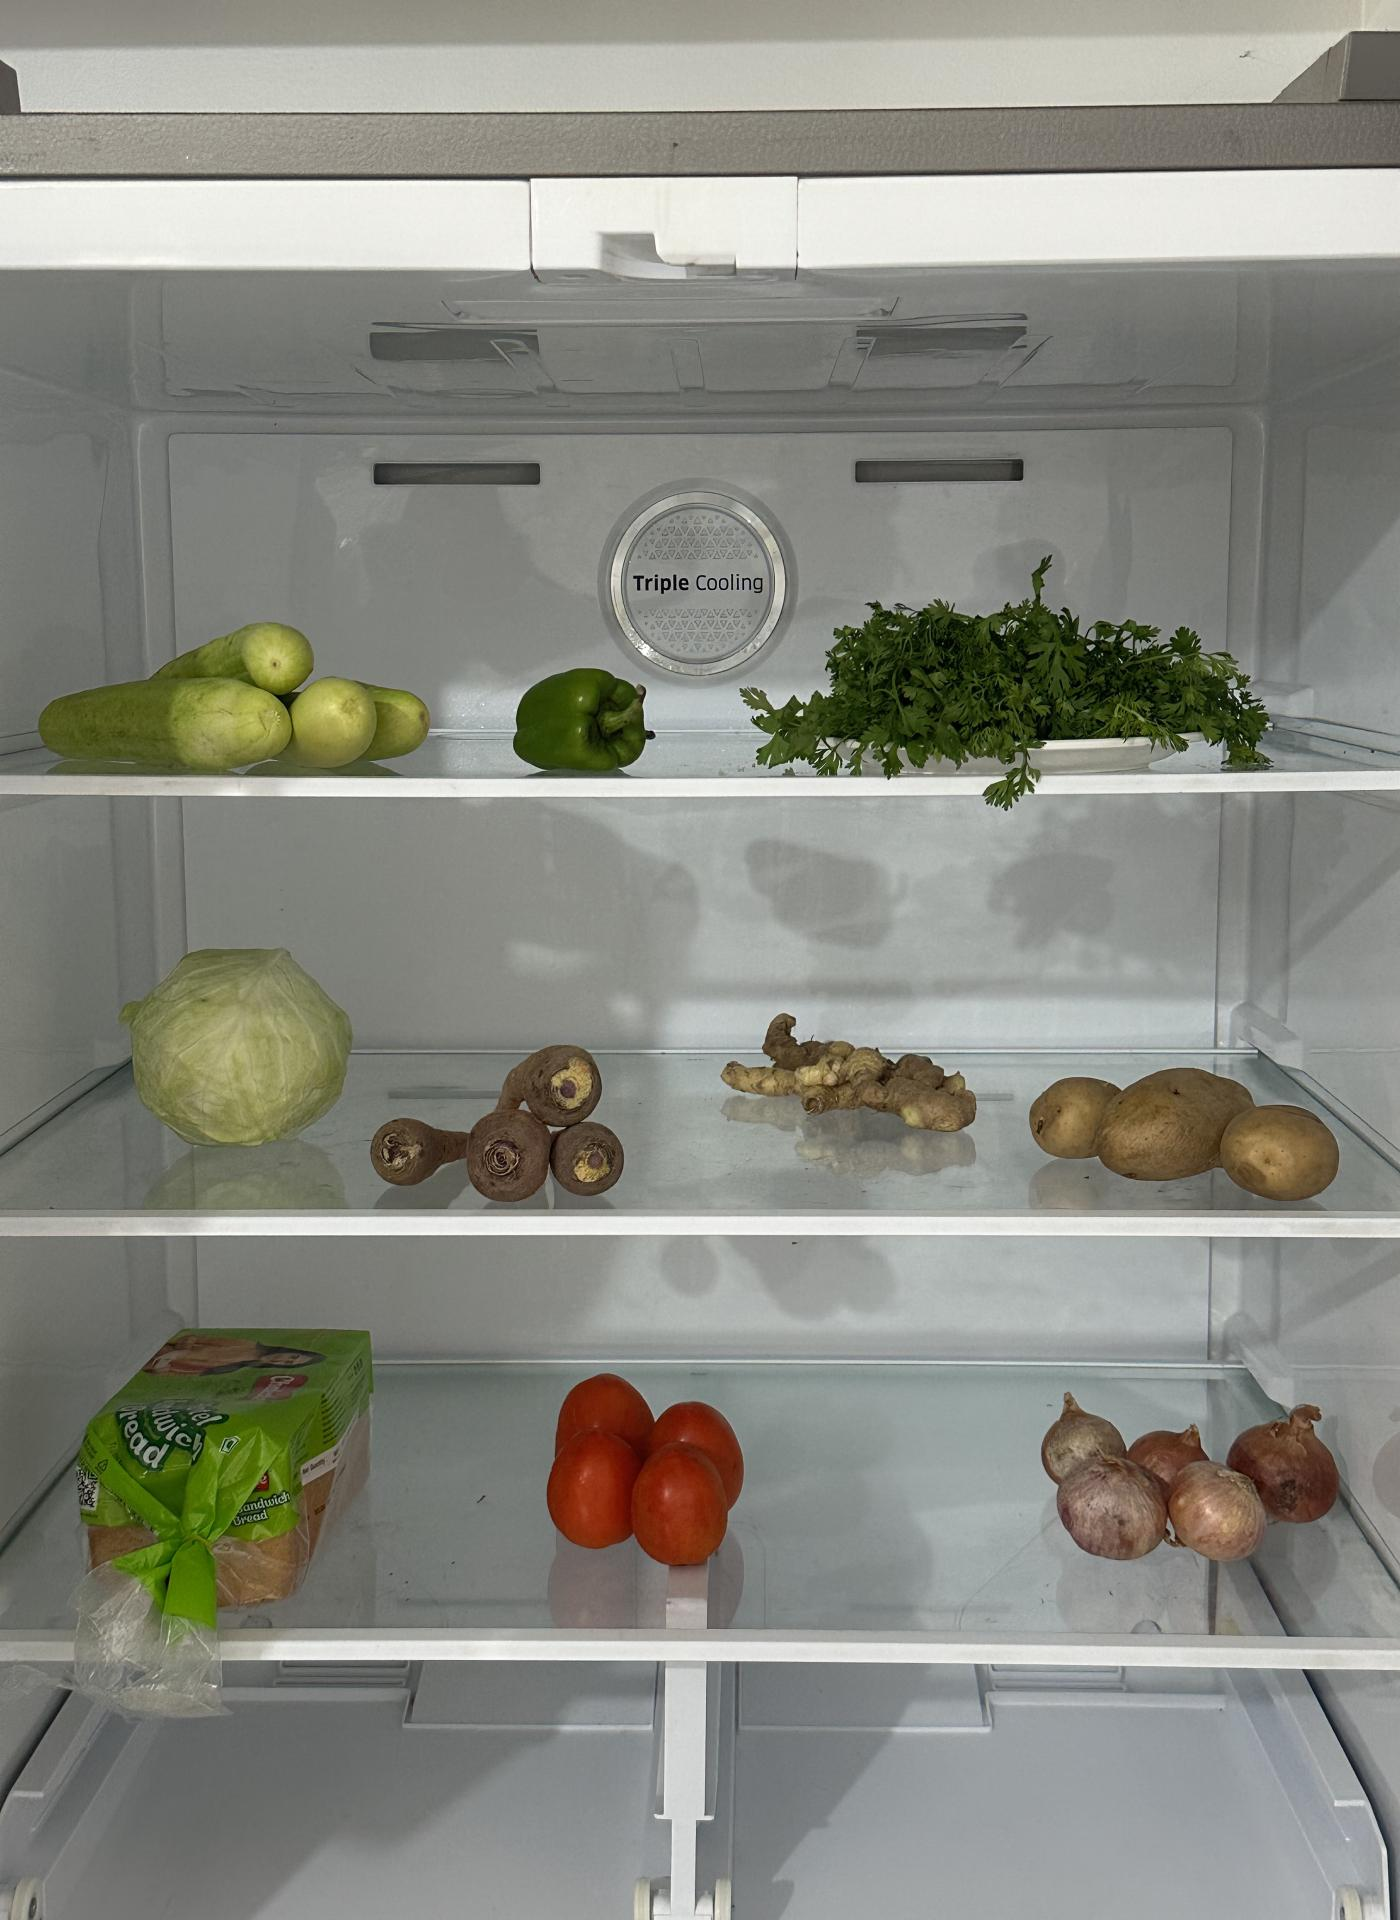bread: (58, 1313, 397, 1597)
cabbage: (128, 953, 355, 1142)
capsicum: (505, 660, 658, 772)
carrots: (367, 1043, 632, 1203)
coriander: (769, 598, 1270, 766)
cucumber: (28, 620, 429, 768)
ginger: (708, 997, 975, 1145)
onion: (1026, 1376, 1349, 1570)
potato: (1030, 1061, 1342, 1201)
tomato: (549, 1376, 753, 1565)
